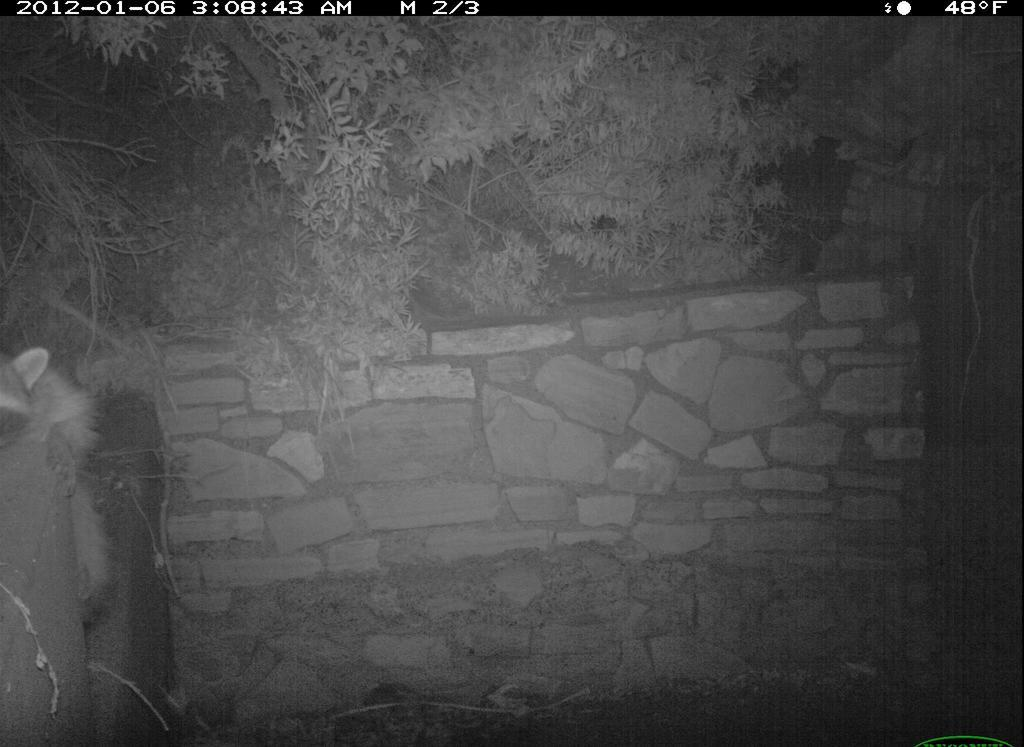raccoon: (1, 335, 127, 639)
